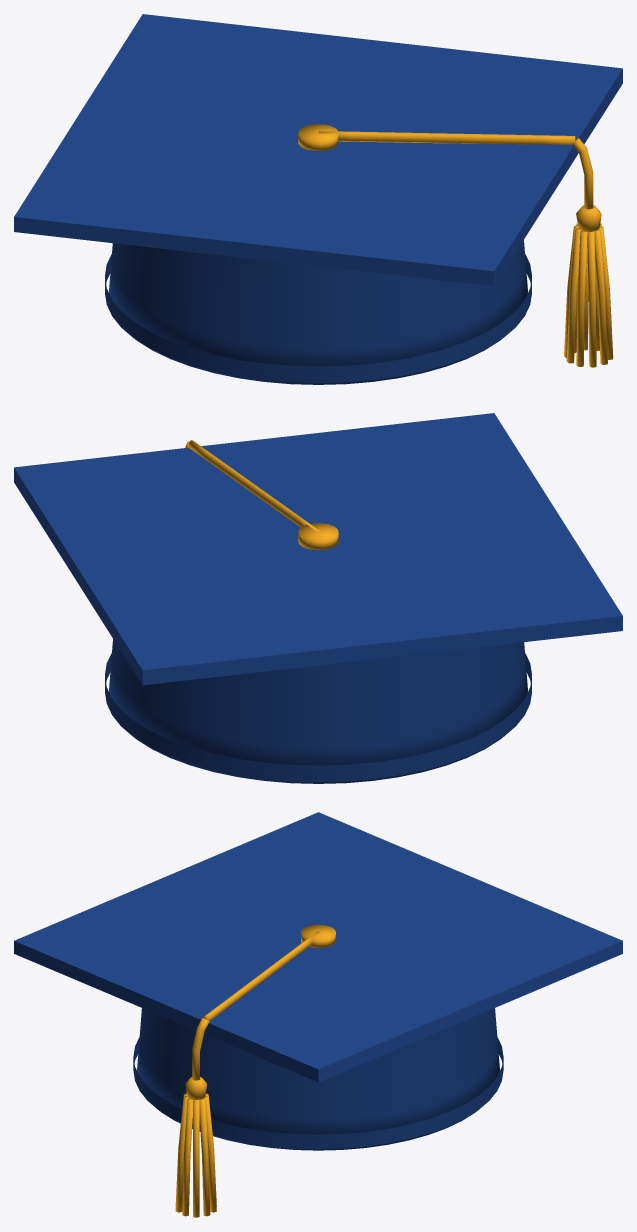
File: hat_mortar.glb
3 views of the same model, one above another, from view 1: azimuth 30°, elevation 25°; view 2: azimuth 150°, elevation 25°; view 3: azimuth 270°, elevation 25° (orthographic). The views are drawn at different scales.
Visible parts, largest first — view 1: hat_mortar_q; view 2: hat_mortar_q; view 3: hat_mortar_q.
Part boxes in pixels (left/top/right/bottom): hat_mortar_q: left=14, top=14, right=622, bottom=384; hat_mortar_q: left=14, top=413, right=622, bottom=783; hat_mortar_q: left=14, top=812, right=622, bottom=1217.
Size of the model in its own units: 3.82 by 1.34 by 3.82.
